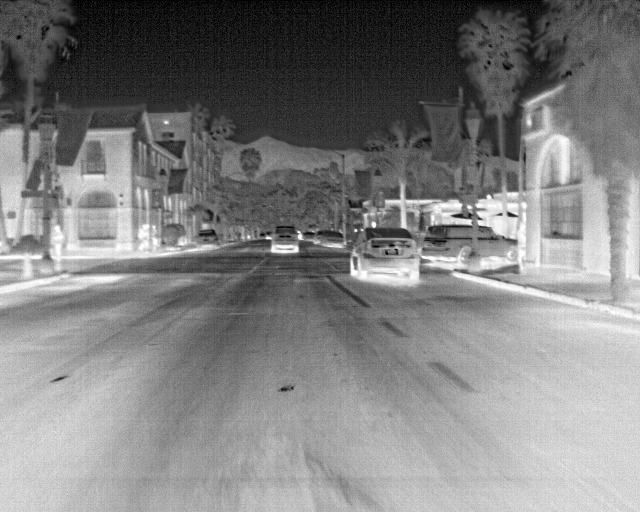bicycle: (347, 226, 421, 279), (417, 224, 472, 265), (478, 225, 517, 263), (270, 228, 301, 256), (313, 229, 347, 249), (194, 226, 221, 247)
empty: (52, 222, 66, 268), (152, 222, 164, 250)
